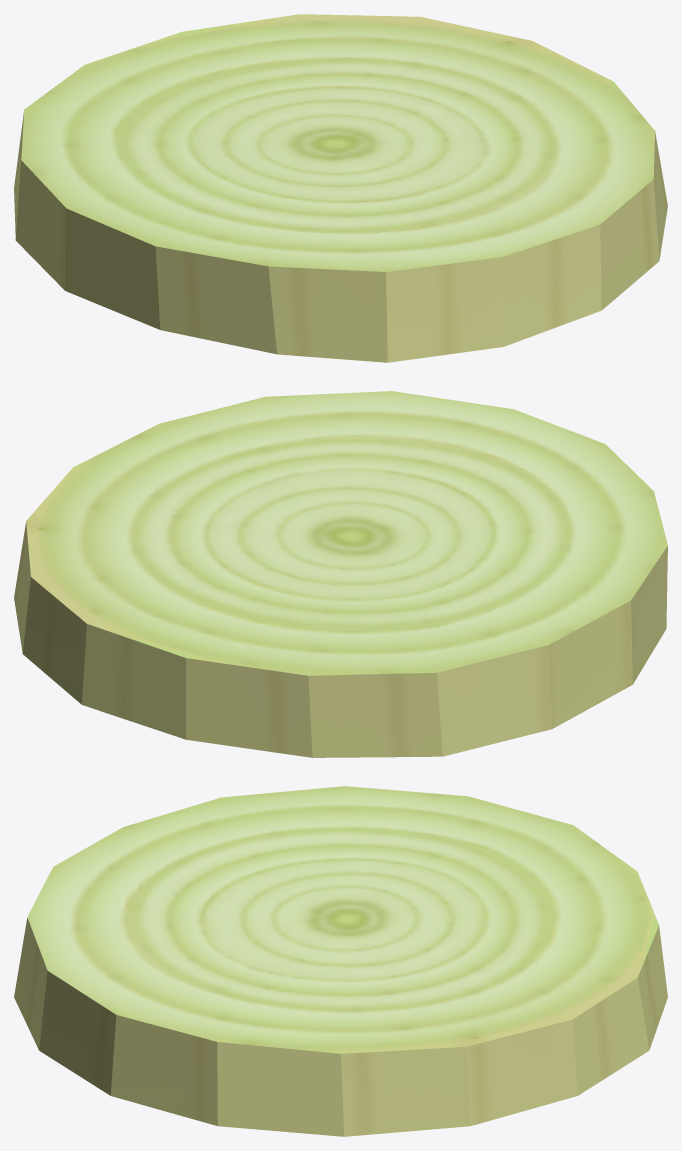
The model's file is OnionSlice.fbx.
3 renders of one model, top to bottom at view 1: azimuth 30°, elevation 25°; view 2: azimuth 150°, elevation 25°; view 3: azimuth 270°, elevation 25°, orthographic. The views are drawn at different scales.
Parts seen in each view (by area): view 1: OnionSlice; view 2: OnionSlice; view 3: OnionSlice.
Boxes of the visible parts, x1,y1,x2,y2 form: OnionSlice: (14, 14, 667, 362); OnionSlice: (14, 391, 667, 757); OnionSlice: (14, 786, 667, 1136).
Size of the model in its own units: 13.63 by 1.95 by 13.92.
